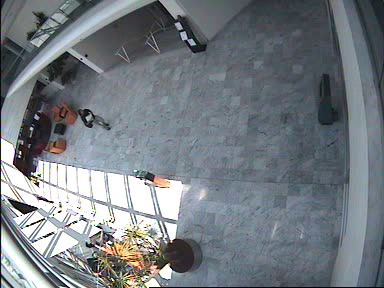person: (77, 108, 111, 130)
